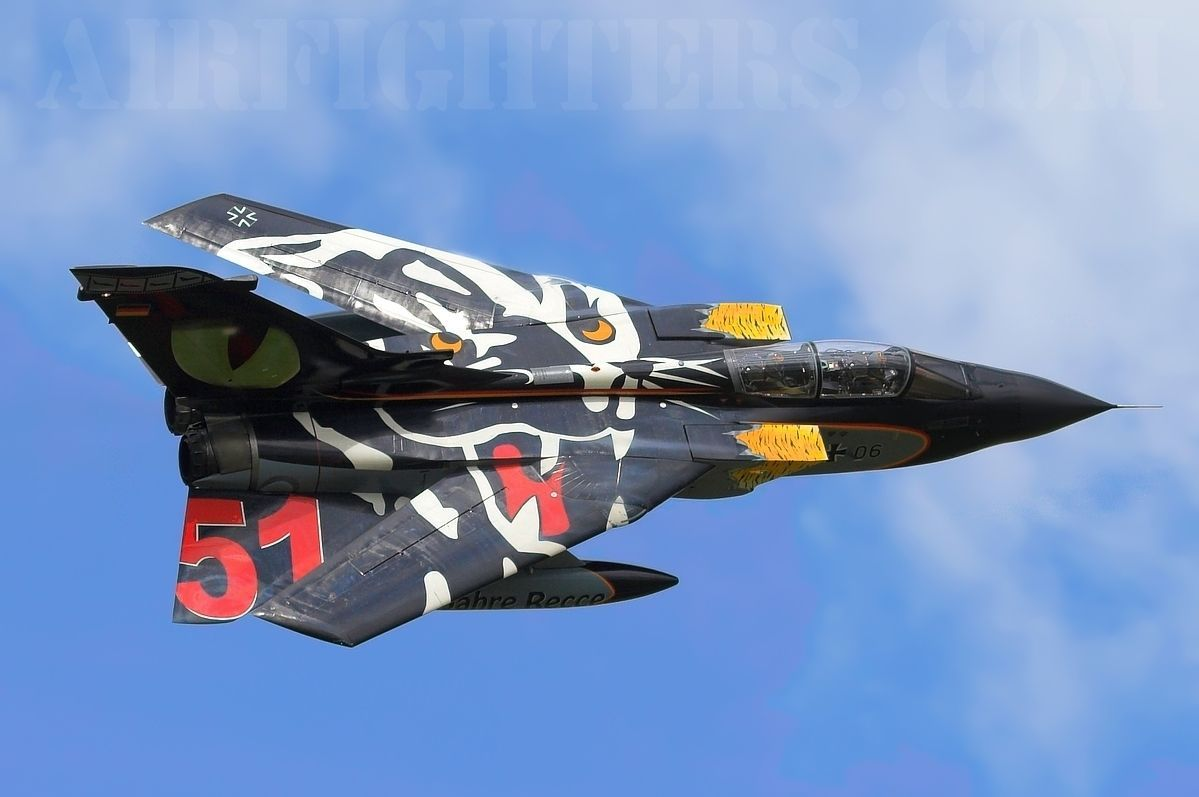Tornado: (68, 193, 1165, 649)
